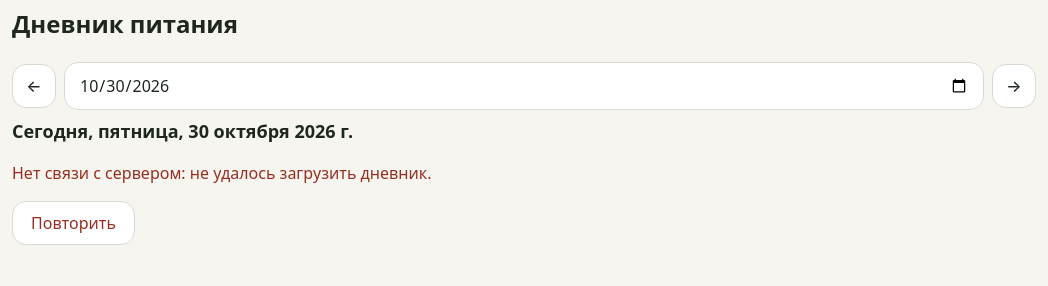
Test case: дневник › ошибка загрузки дня — сообщение и повтор
The width and height of the screenshot is (1048, 286).
Expected: the message shows "Нет связи с сервером", [12,162,432,184]
Click the button "Повторить" at (74,223), box [12,201,135,245]
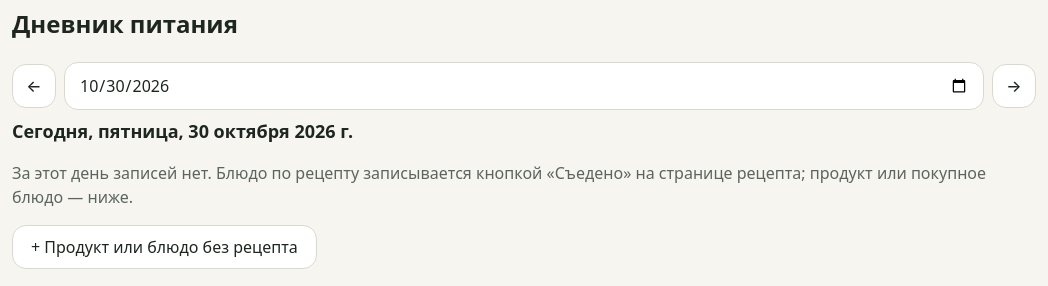
Expected: the text "За этот день записей нет" is shown, [12,162,986,208]
